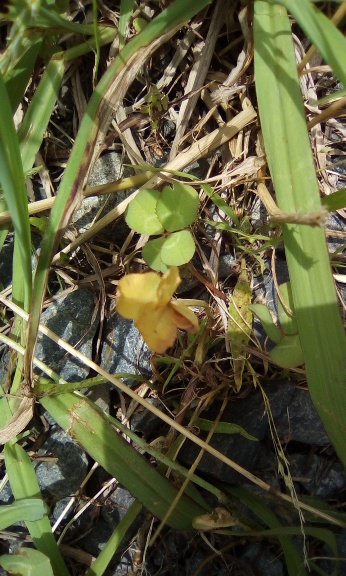4leaf: (123, 183, 200, 273)
